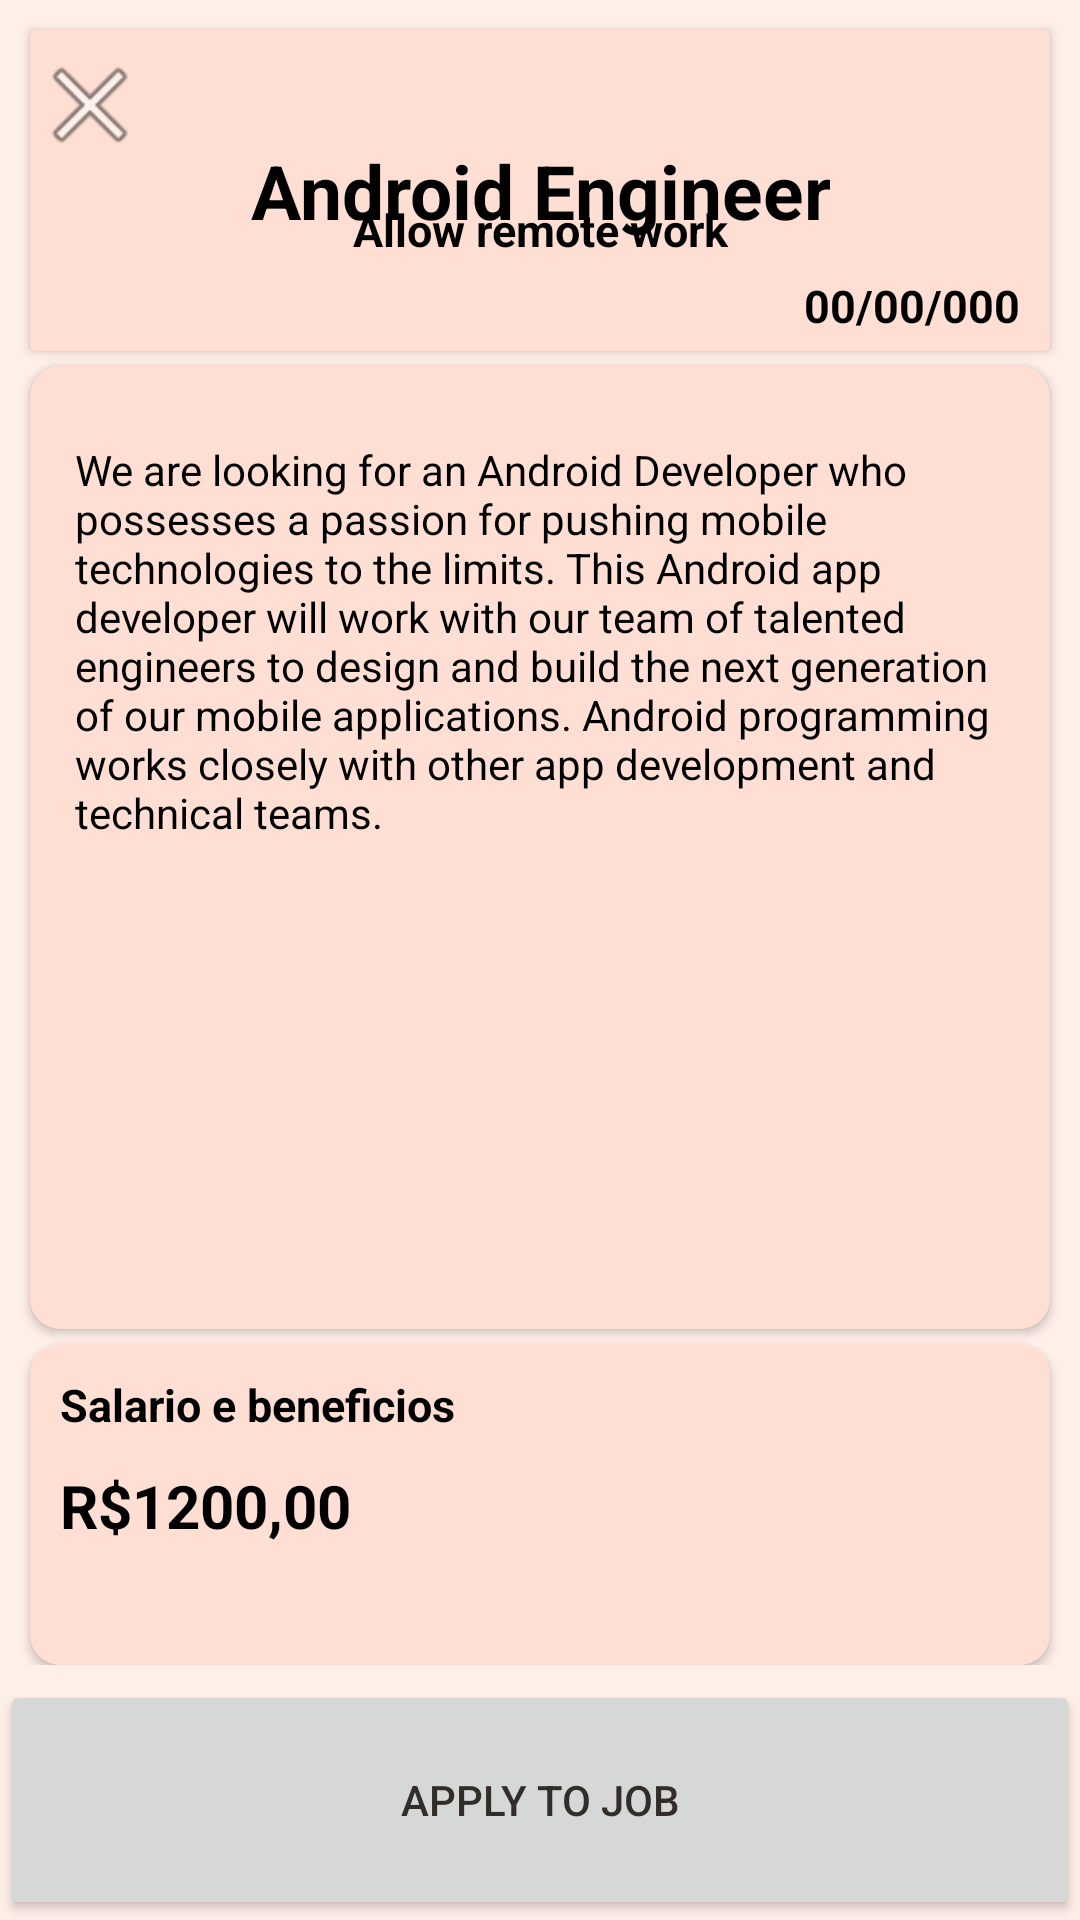

Where icons sit on this 1080 × 1920 app screen, as (x1, y1, x2, y2):
close clear cancel: (52, 67, 128, 143)
